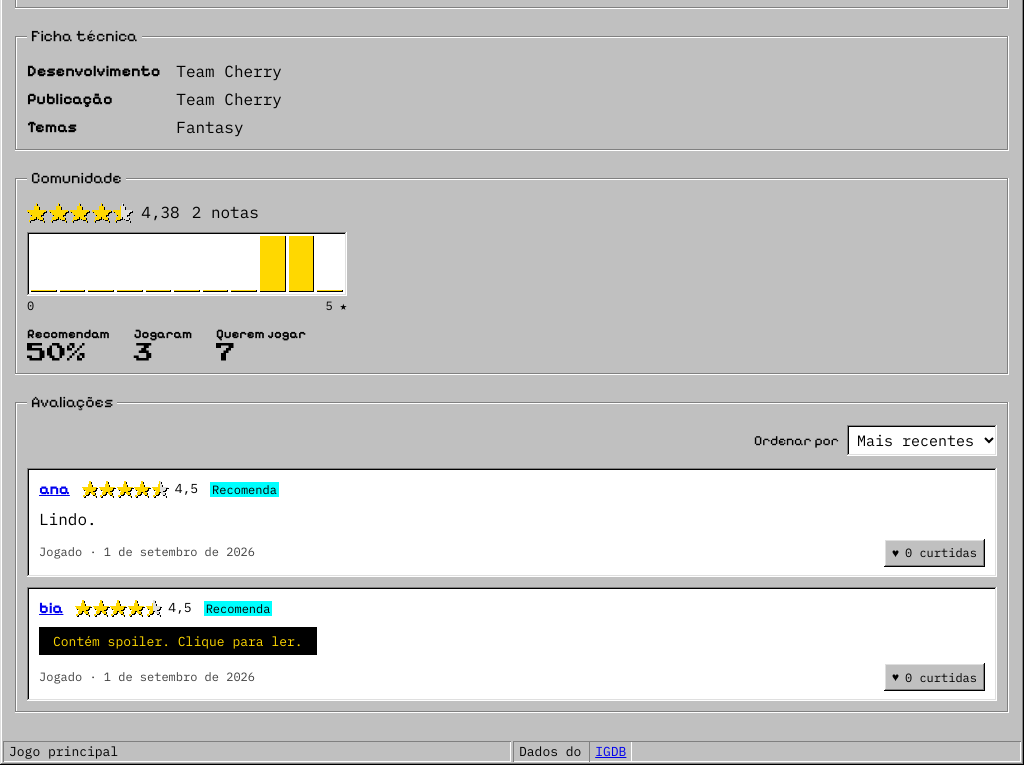
Test case: GameView › lista as avaliações e esconde o spoiler até o clique
This screenshot has width=1024, height=765.
(page scrolled)
Expected: the number of elements with class "review" is 2, [27,468,997,577]; [27,587,997,701]
Expected: the text "O final é um sonho." is not shown
Step 1. Click the button with class "spoiler" → click(178, 641), box [39,627,317,655]
(page scrolled)
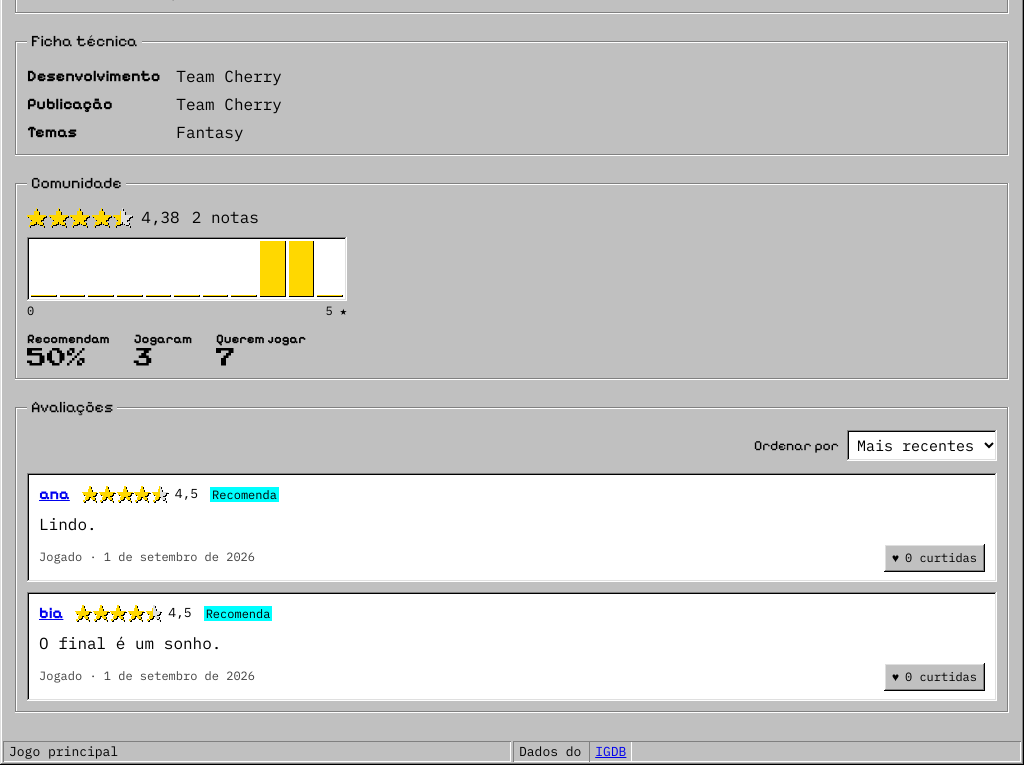
Expected: the text "O final é um sonho." is shown, [39,633,221,653]
